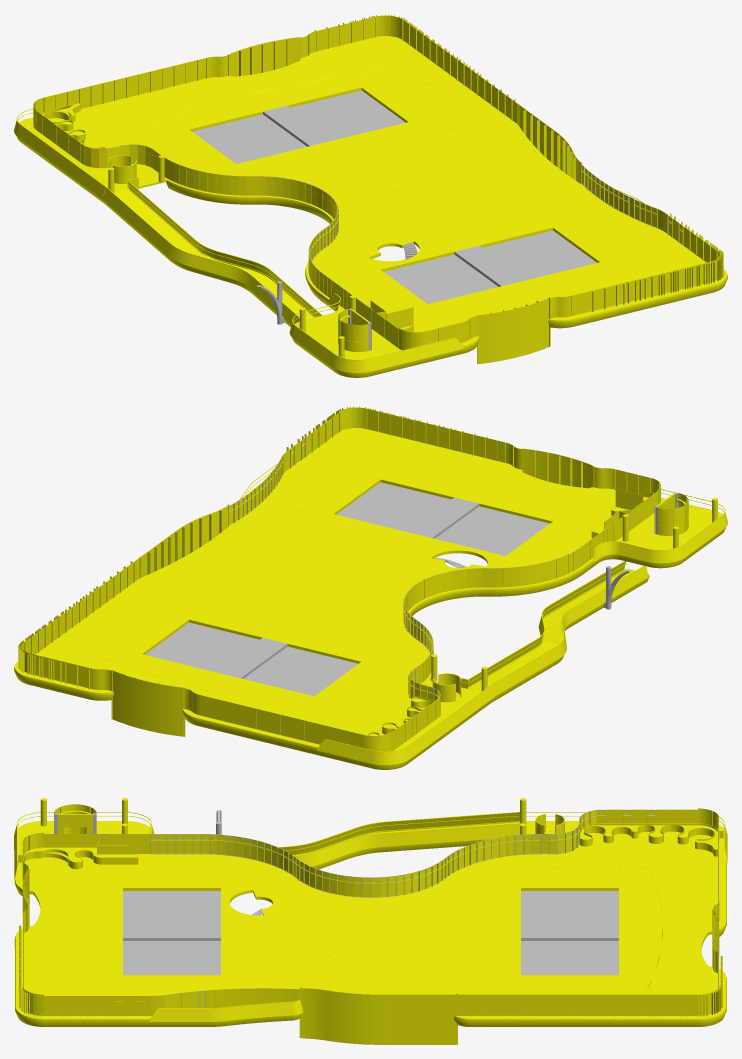
The model's file is sm_hana_building_14f_out.glb.
3 views of the same model, one above another, from view 1: azimuth 30°, elevation 25°; view 2: azimuth 150°, elevation 25°; view 3: azimuth 270°, elevation 25° (orthographic). The views are drawn at different scales.
Visible parts, largest first — view 1: sm_hana_building_14f_out; view 2: sm_hana_building_14f_out; view 3: sm_hana_building_14f_out.
Part boxes in pixels (x1=…): sm_hana_building_14f_out: x1=14, y1=14, x2=727, y2=377; sm_hana_building_14f_out: x1=14, y1=406, x2=727, y2=769; sm_hana_building_14f_out: x1=14, y1=798, x2=727, y2=1044.
Size of the model in its own units: 66.33 by 10.17 by 100.
Materials: 13 (10 with a texture image).
